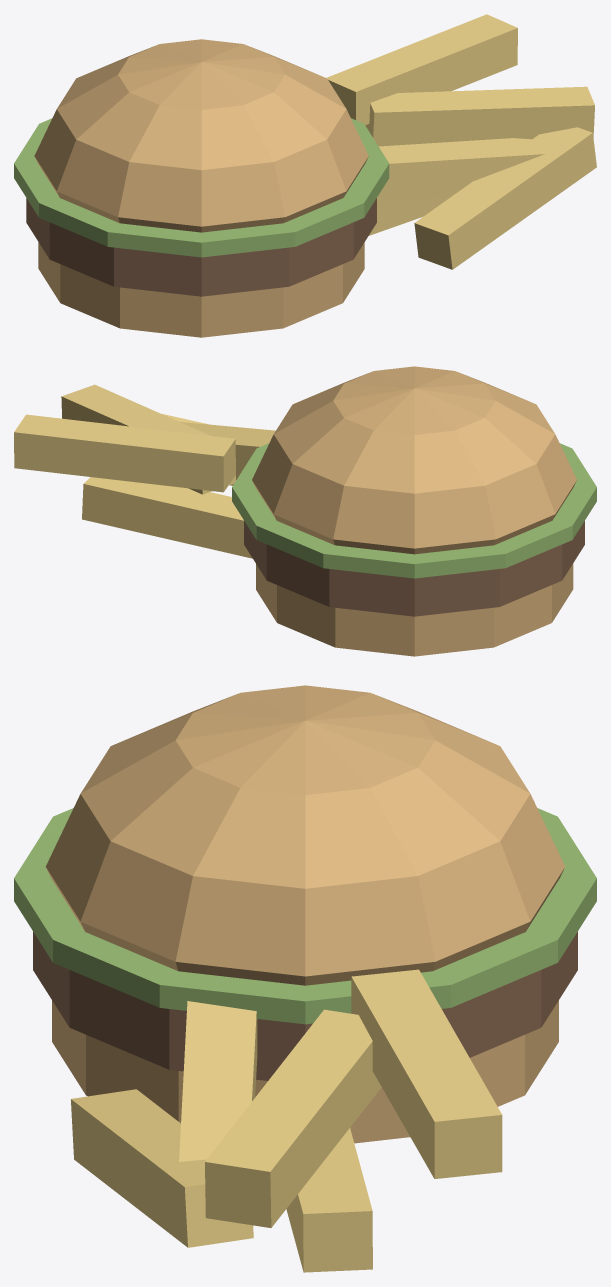
File: food.glb
3 views of the same model, one above another, from view 1: azimuth 30°, elevation 25°; view 2: azimuth 150°, elevation 25°; view 3: azimuth 270°, elevation 25° (orthographic). The views are drawn at different scales.
Parts seen in each view (by area): view 1: Food; view 2: Food; view 3: Food.
Boxes of the visible parts, x1,y1,x2,y2 form: Food: (14,14,596,337); Food: (14,366,596,656); Food: (14,685,596,1272).
Bounding box in the file's own units: 0.152 × 0.0559 × 0.092.
